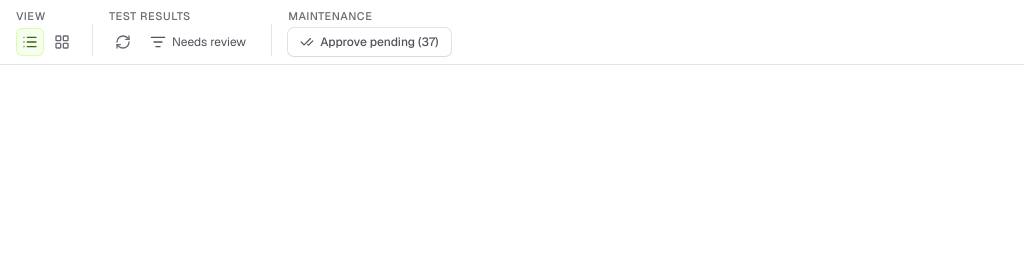
it: ContextualToolbar › focusing a chip shows its rule
Click the button with test id "batch-filter-trigger". click: (198, 42)
box: [141,28,255,56]
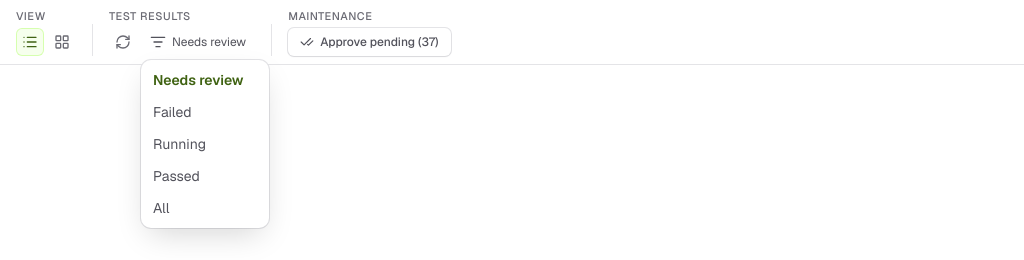
Focus the menu item with test id "batch-chip-failed". click: (172, 112)
box: [153,103,192,121]
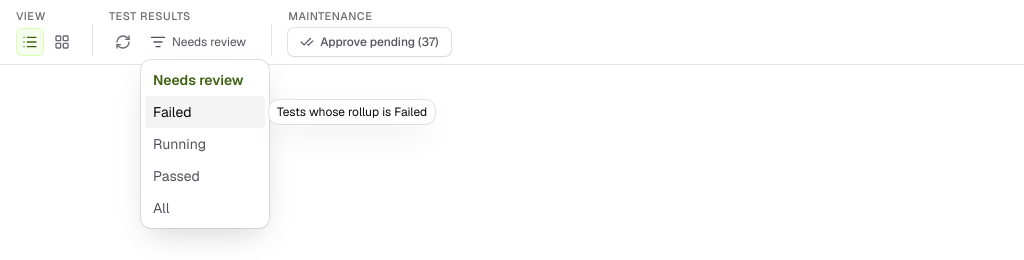
Now the tooltip reads "Tests whose rollup is Failed", box [277,104,427,120]
